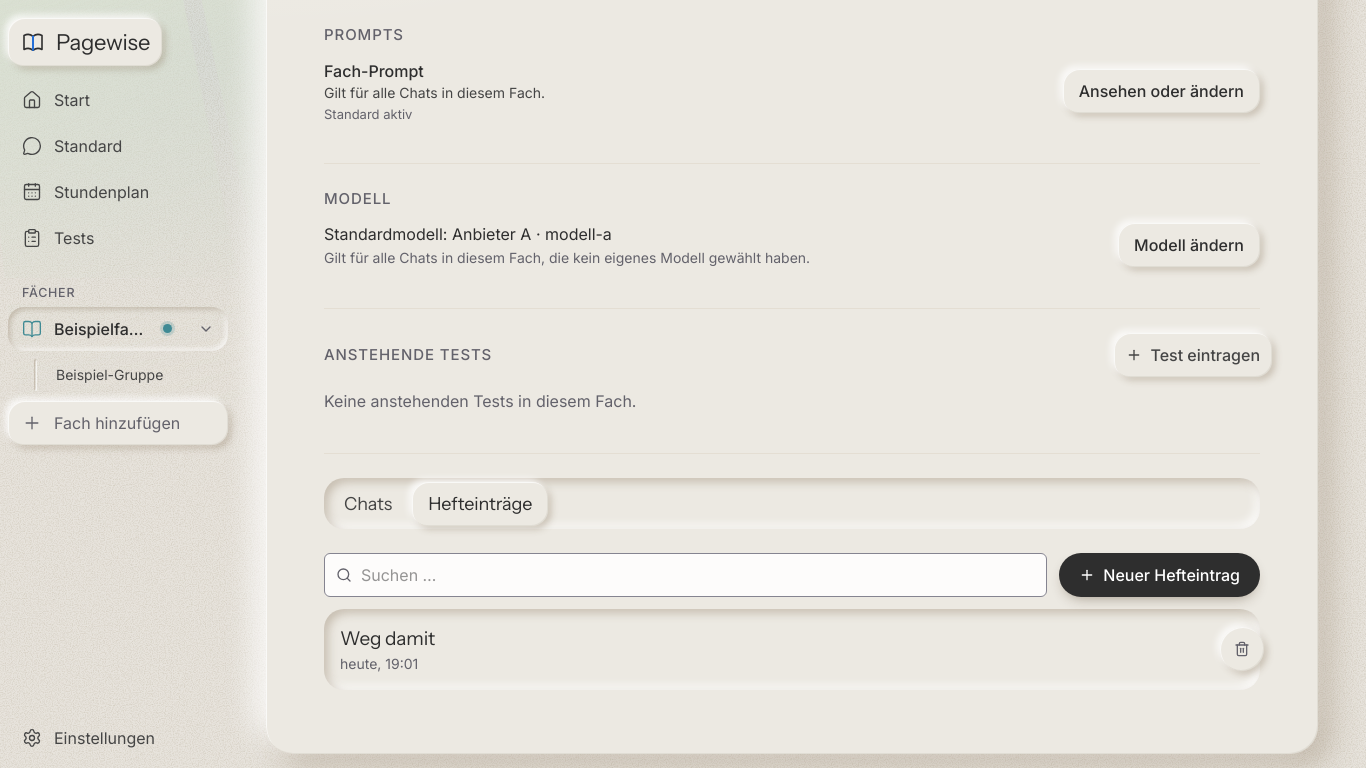
Test: Liste der Hefteinträge › löscht nach Bestätigung
(page scrolled)
Click the button named "Hefteintrag „Weg damit“ löschen" at (1242, 649), box [1220, 627, 1264, 671]
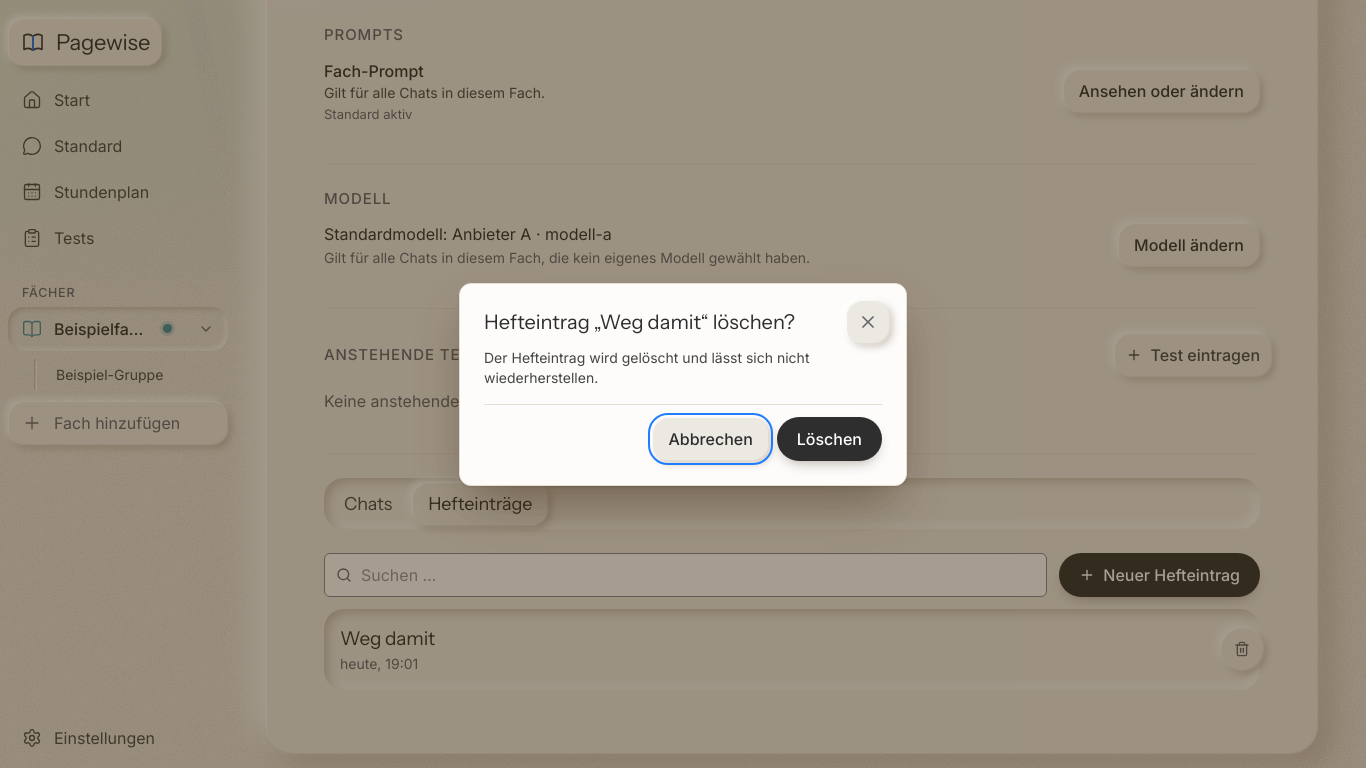
Now the heading "Hefteintrag „Weg damit“ löschen?" is shown, box [484, 308, 795, 336]
Click the button "Löschen" at (829, 438), box [777, 416, 882, 460]
(page scrolled)
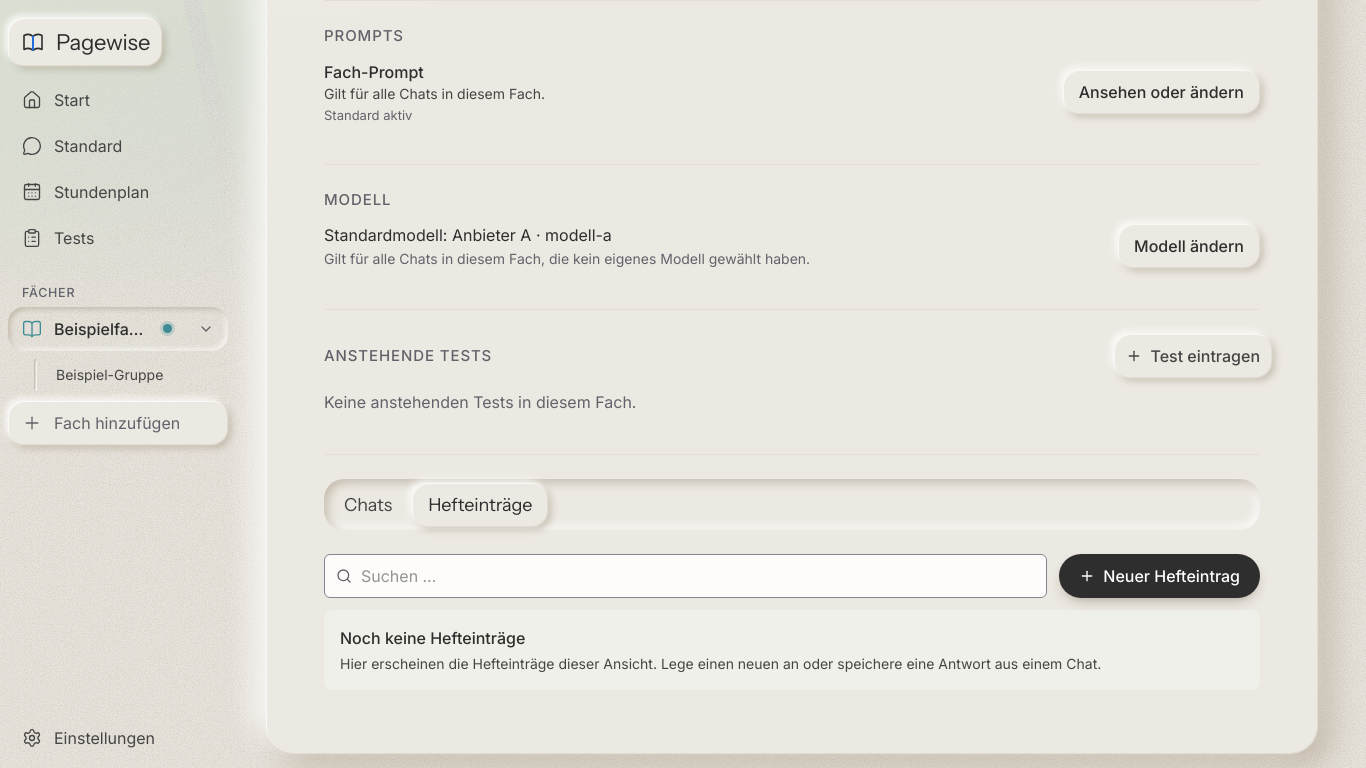
Now the link "Weg damit" is gone
